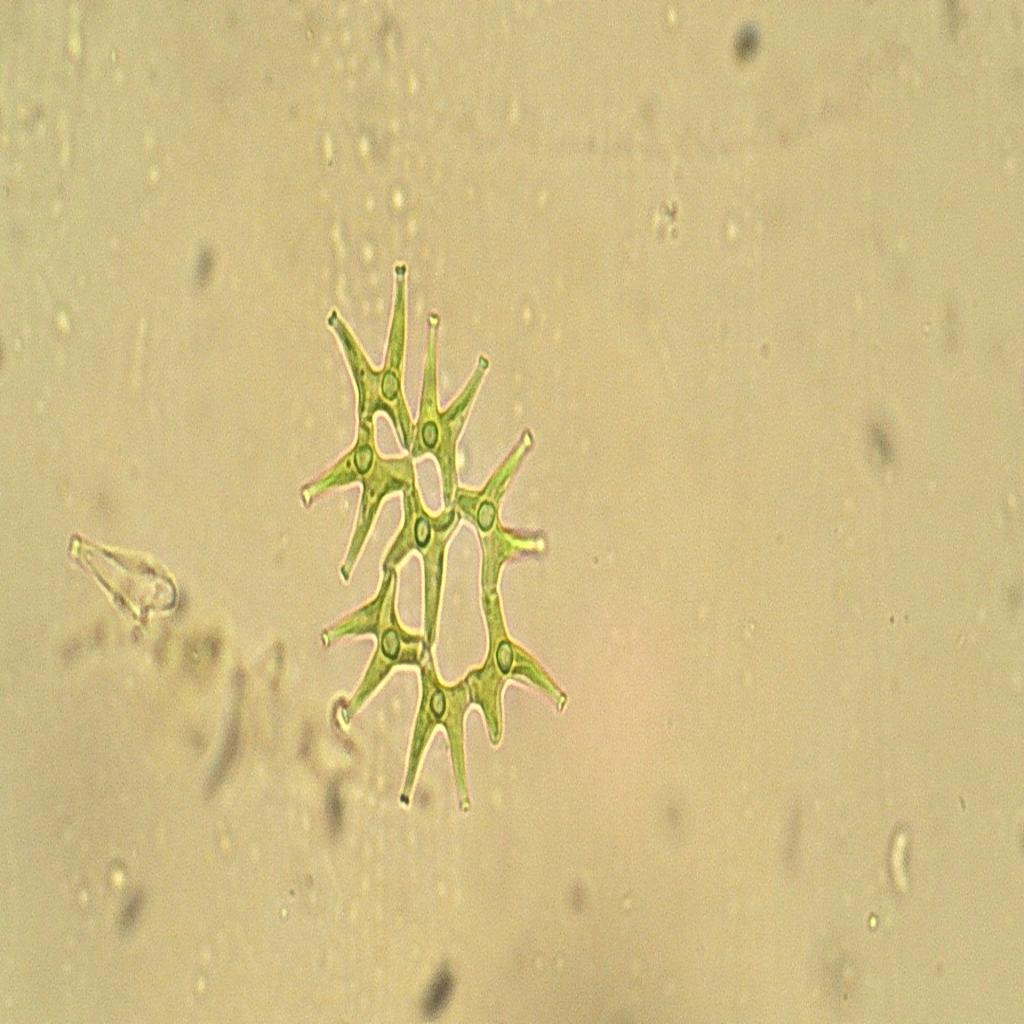Pediastrum_CFI: (271, 251, 583, 834)
